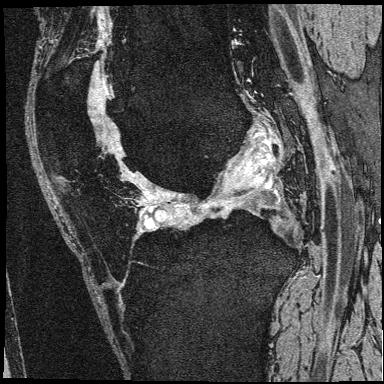SagKneeJointArea: (34, 56, 300, 290)
